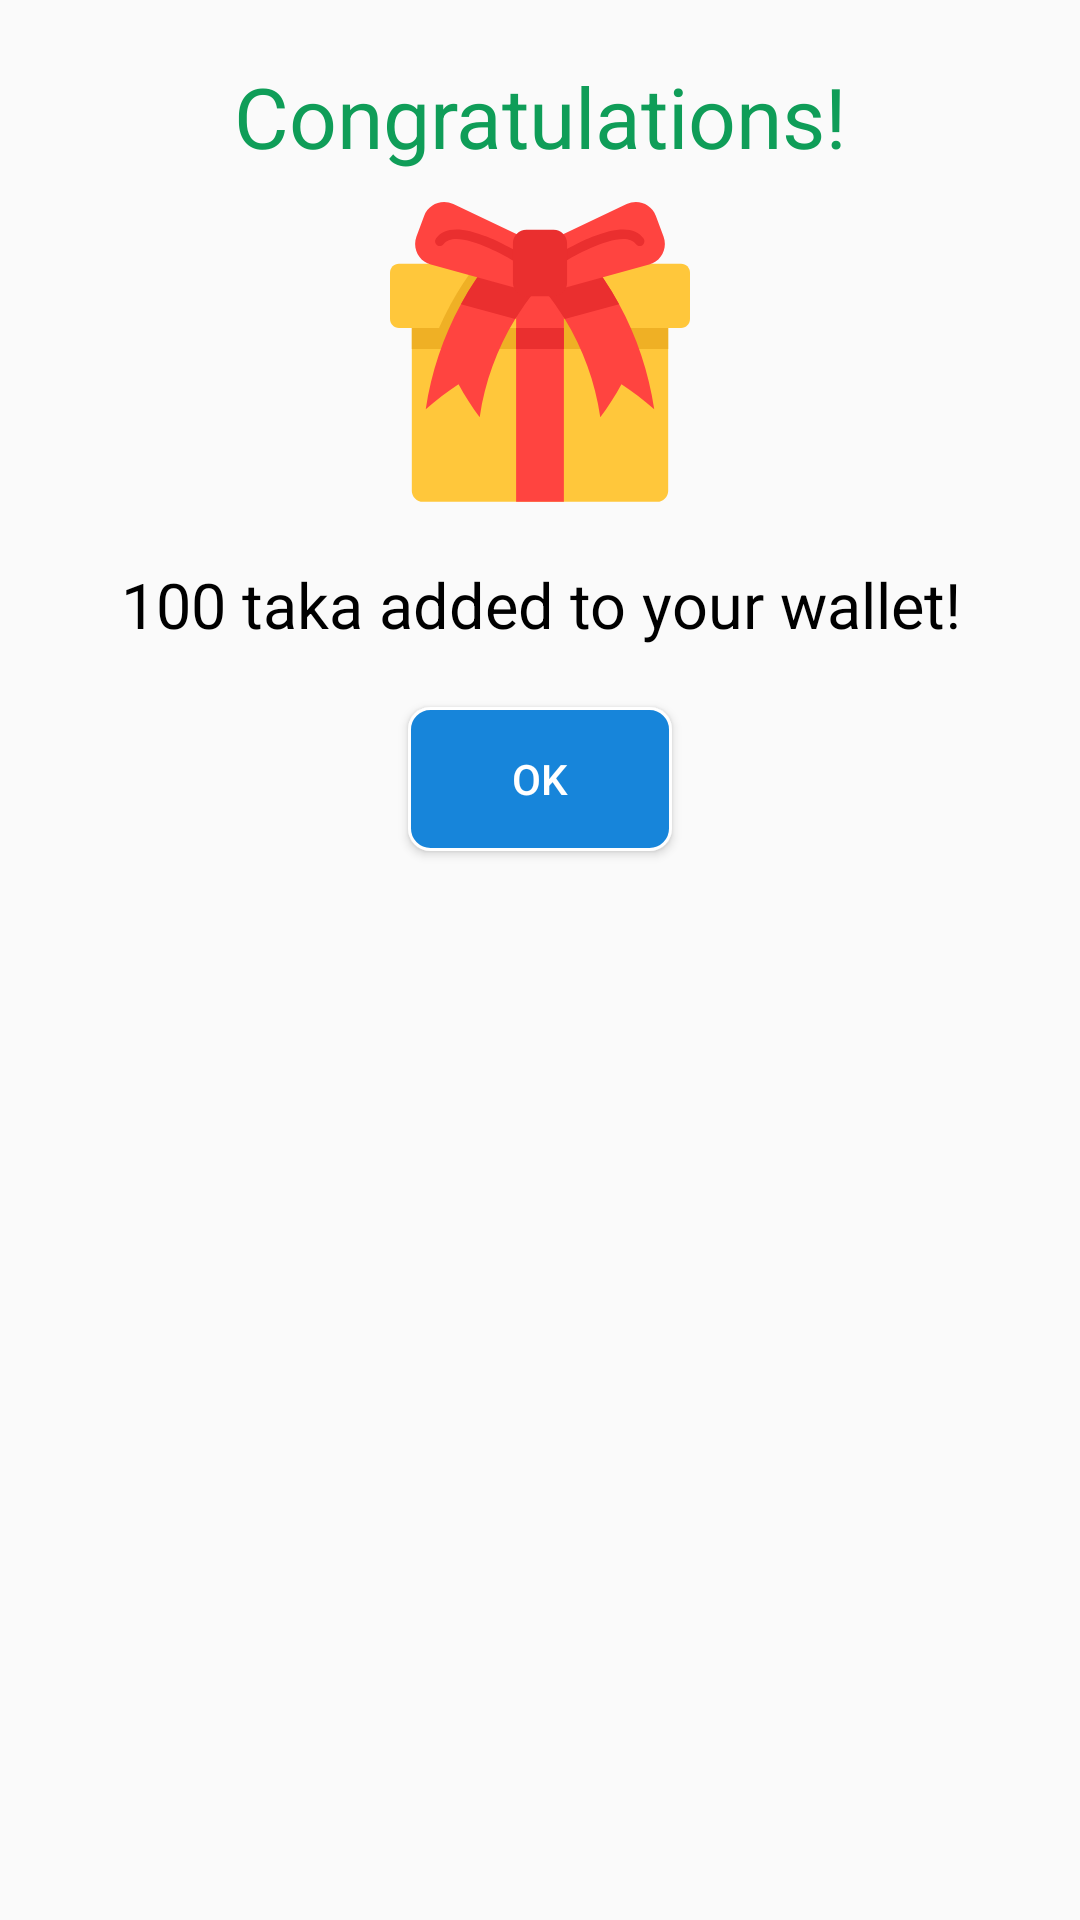

Point at icon controls on the screen. Image size 1080*1920, points as [x,y].
giftbox: [540,352]
